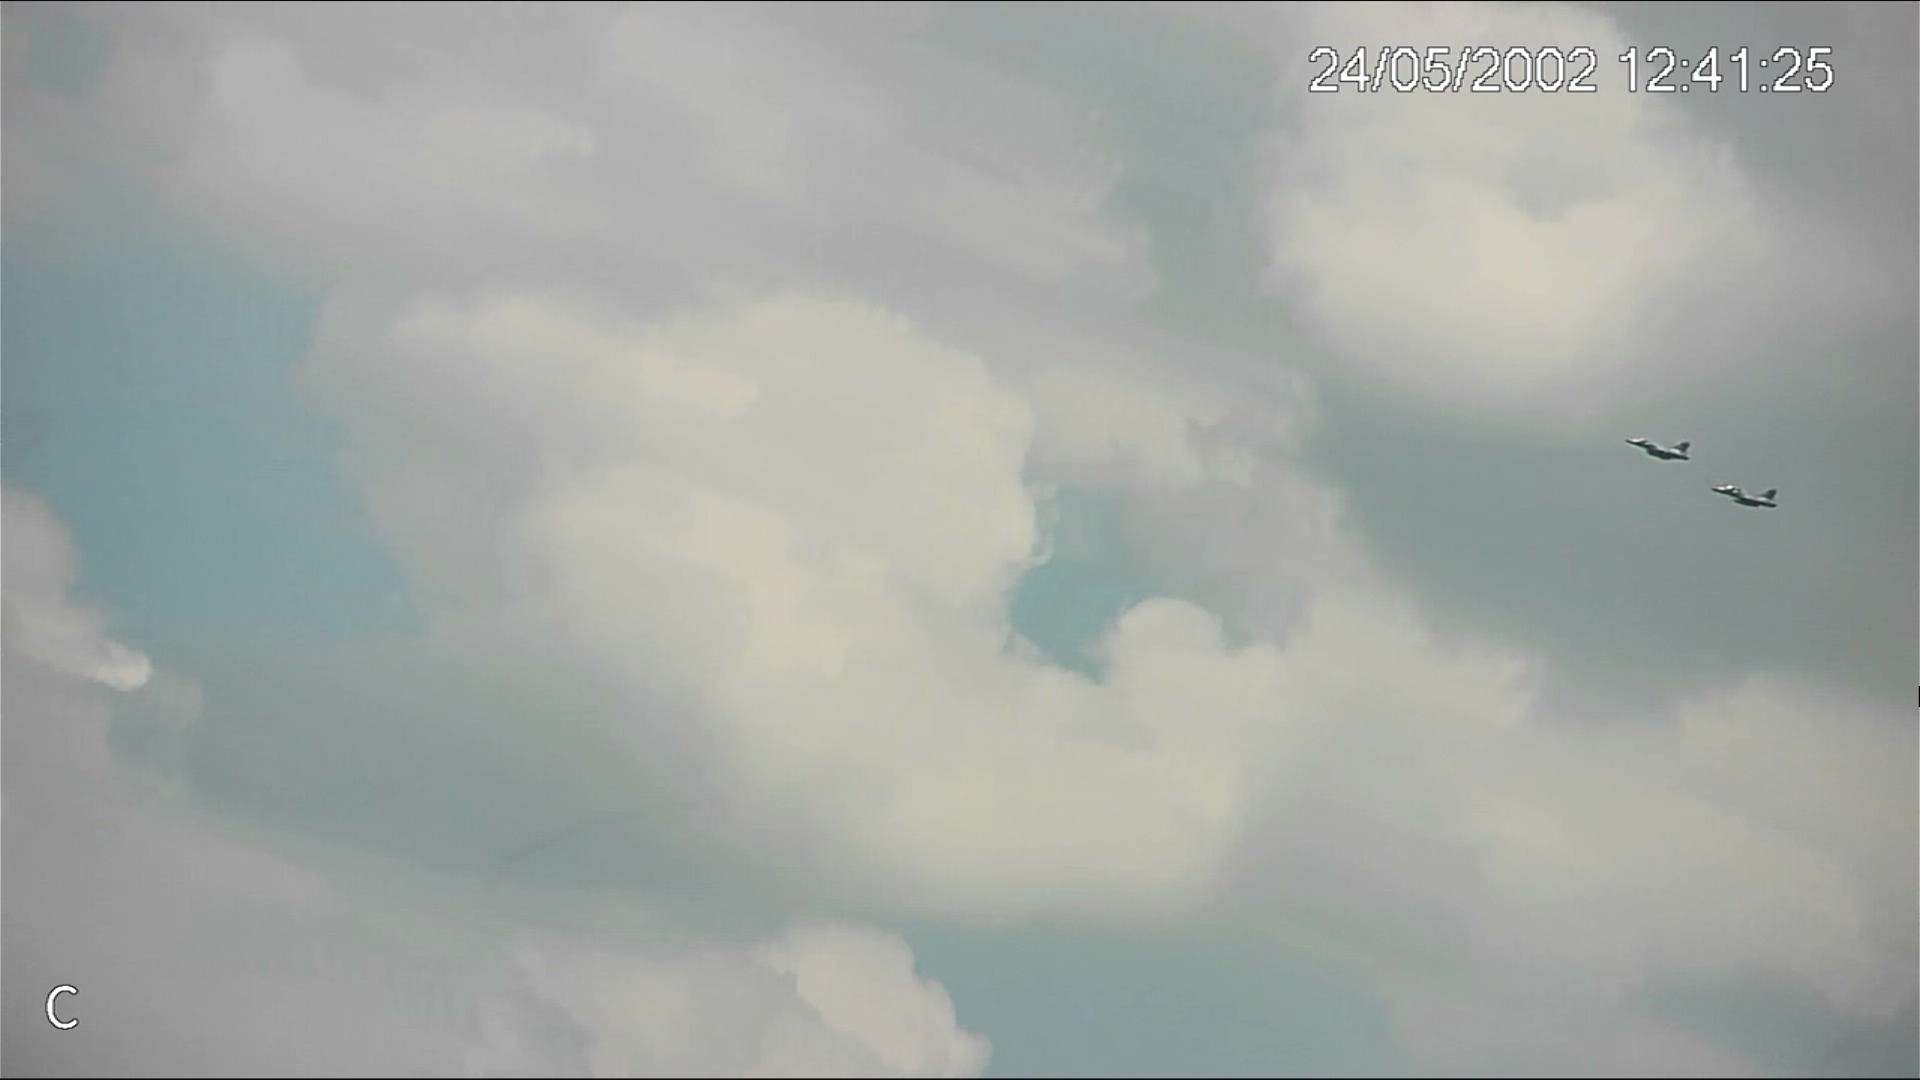SU_30: (1712, 483, 1779, 510), (1623, 436, 1692, 462)
